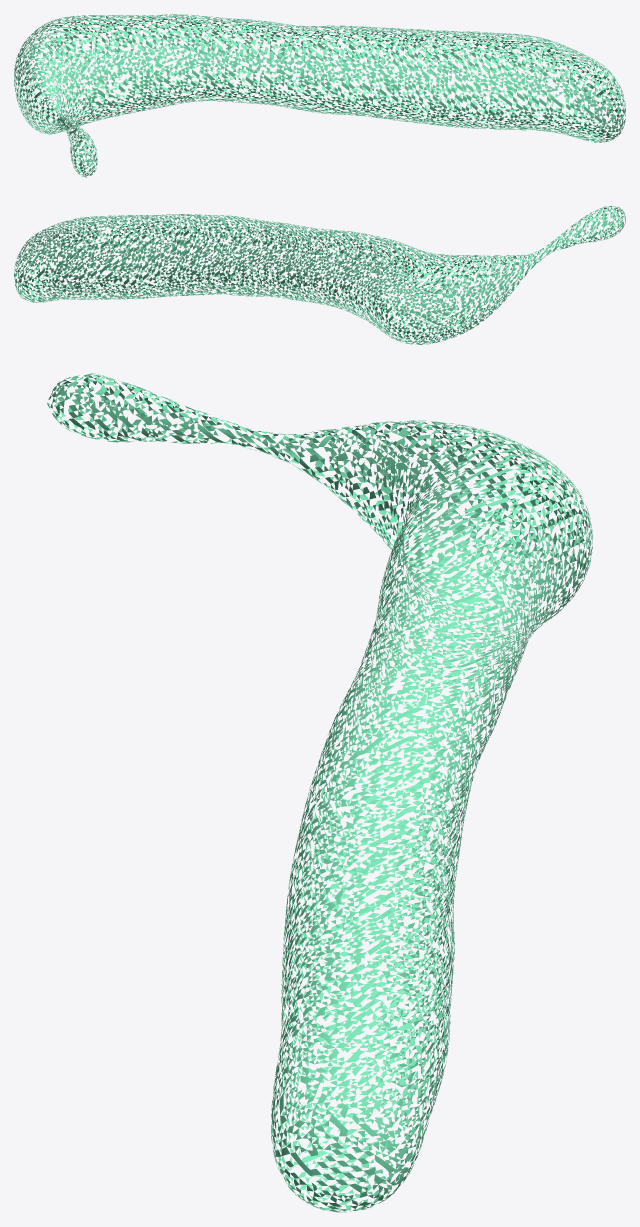
File: healthy.glb
3 renders of one model, top to bottom at view 1: azimuth 30°, elevation 25°; view 2: azimuth 150°, elevation 25°; view 3: azimuth 270°, elevation 25°, orthographic. The views are drawn at different scales.
Bounding box in the file's own units: 123 × 38.4 × 54.51.
